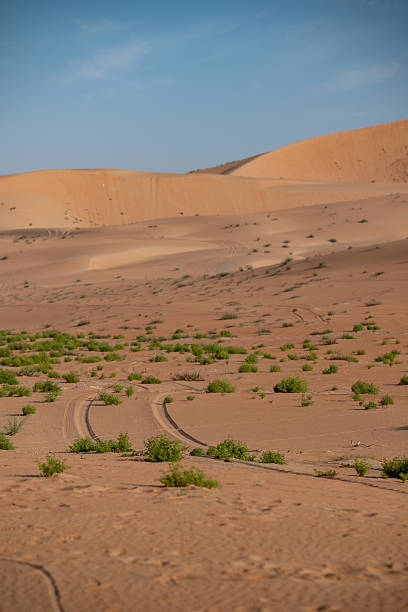vehicle_track: (0, 556, 63, 611), (151, 393, 207, 446), (62, 397, 97, 442), (233, 459, 315, 477)
